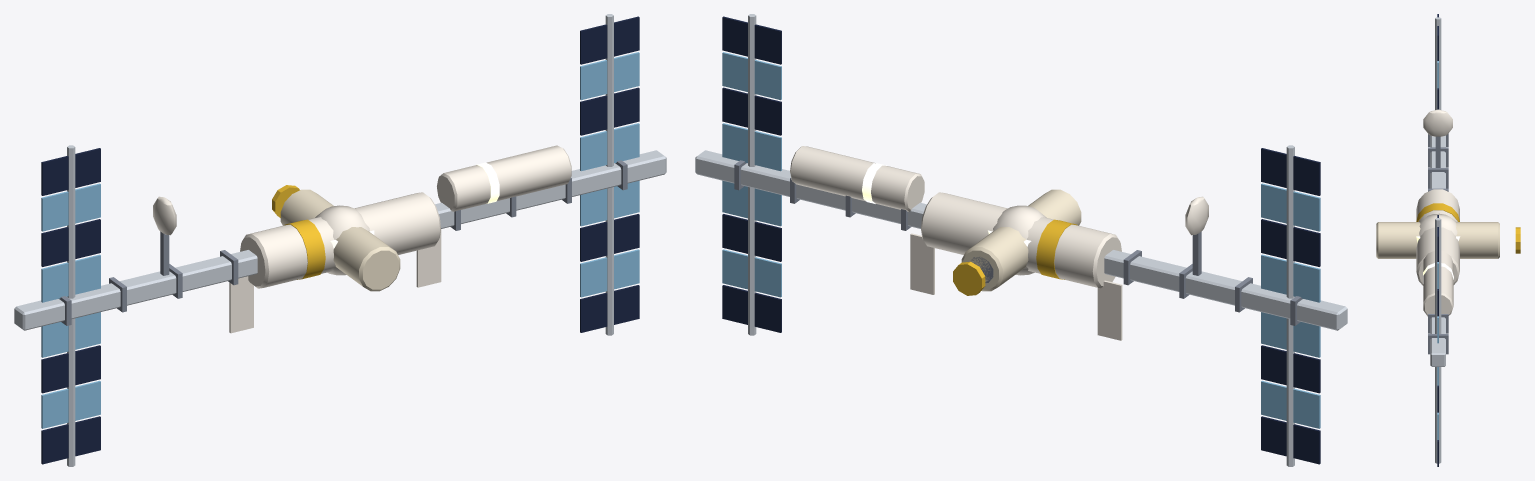
File: space_station.glb
3 views of the same model, side by side, from view 1: azimuth 30°, elevation 25°; view 2: azimuth 150°, elevation 25°; view 3: azimuth 270°, elevation 25° (orthographic). The views are drawn at different scales.
Parts seen in each view (by area): view 1: space_station; view 2: space_station; view 3: space_station.
Boxes of the visible parts, <box> form: space_station: <box>14,14,666,466</box>; space_station: <box>695,14,1347,466</box>; space_station: <box>1376,14,1520,466</box>.
Size of the model in its own units: 110 by 52 by 28.
Materials: 1 (1 with a texture image).
